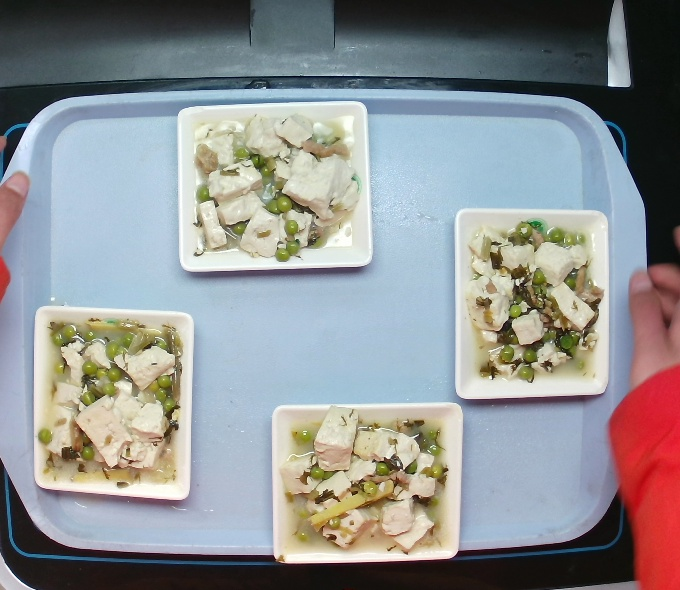wcq-CanDouDouFu: (275, 398, 451, 561), (195, 105, 361, 271), (460, 210, 604, 392), (41, 309, 181, 495)
